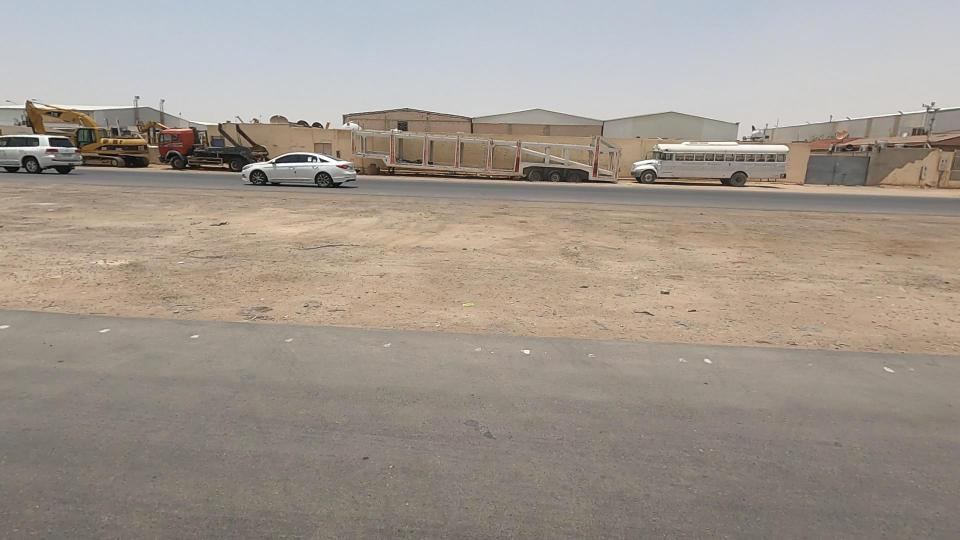CONSTRUCTION_ROAD: (0, 137, 588, 387), (322, 163, 960, 372)
